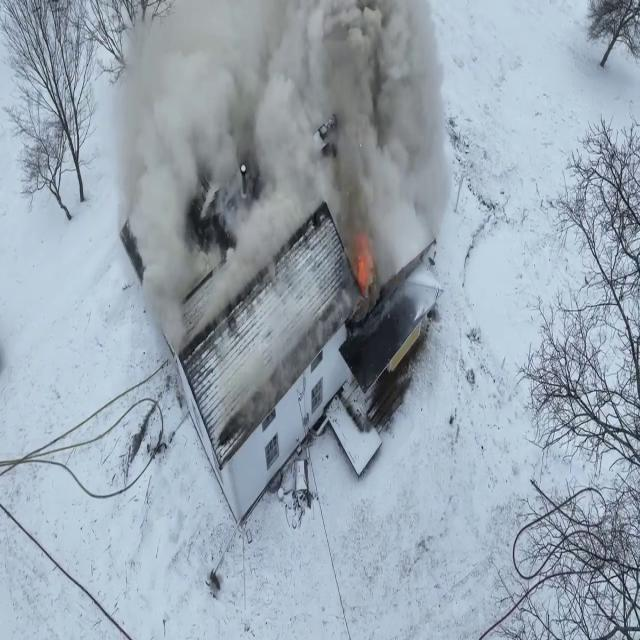Smoke: (104, 0, 468, 299)
